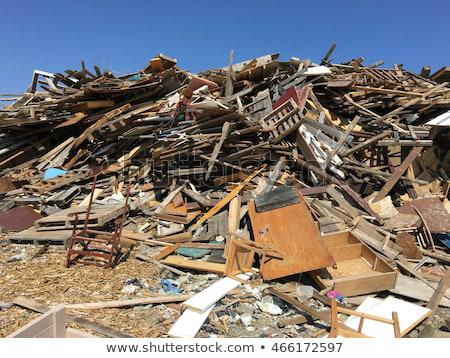wood: (245, 187, 341, 276), (300, 226, 403, 298), (340, 62, 445, 106), (263, 97, 309, 146)
